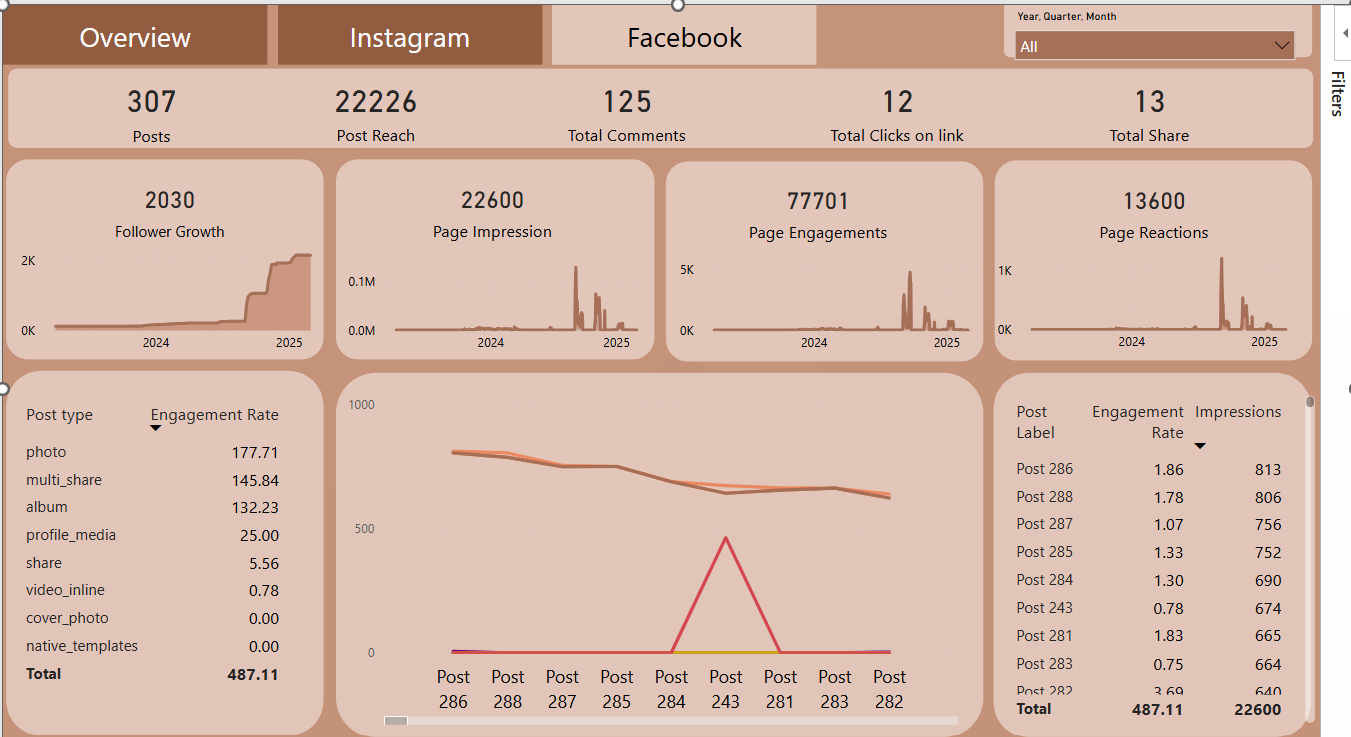

This screenshot's page, from the dashboard's own definition file:
{"tool":"powerbi","page":{"name":"Facebook","canvas":[1280,720],"ordinal":2},"visuals":[{"type":"card","fields":{"Values":["Measures (2).Follower Growth"]},"box":[100,166.2,123.8,65],"z":0},{"type":"areaChart","fields":{"Y":["Sum(Facebook Profile Overview.Page followers)"],"Category":["Facebook Profile Overview.Date.Variation.Date Hierarchy.Year","Facebook Profile Overview.Date.Variation.Date Hierarchy.Quarter","Facebook Profile Overview.Date.Variation.Date Hierarchy.Month","Facebook Profile Overview.Date.Variation.Date Hierarchy.Day"]},"box":[12.5,200,305,146.2],"z":1000},{"type":"textbox","box":[577.5,3.8,150,46.2],"z":2000},{"type":"card","fields":{"Values":["Measures (2).Impression"]},"box":[410,166.2,131.2,65],"z":3000},{"type":"card","fields":{"Values":["Sum(Facebook Profile Overview.Page post engagements)"]},"box":[681.2,167.5,221.2,65],"z":4000},{"type":"areaChart","fields":{"Category":["Facebook Profile Overview.Date.Variation.Date Hierarchy.Year","Facebook Profile Overview.Date.Variation.Date Hierarchy.Quarter","Facebook Profile Overview.Date.Variation.Date Hierarchy.Month","Facebook Profile Overview.Date.Variation.Date Hierarchy.Day"],"Y":["Sum(Facebook Profile Overview.Page post engagements)"]},"box":[652.5,231.2,303.8,115],"z":5000},{"type":"card","fields":{"Values":["Measures (2).Posts"]},"box":[77.5,60,133.8,83.8],"z":6000},{"type":"card","fields":{"Values":["Measures (2).Total Clicks on link"]},"box":[781.2,60,175,83.8],"z":7000},{"type":"card","fields":{"Values":["Measures (2).Total Comments"]},"box":[518.8,60,176.2,83.8],"z":8000},{"type":"card","fields":{"Values":["Measures (2).Total Share"]},"box":[1045,60,138.8,83.8],"z":9000},{"type":"lineChart","fields":{"Y":["Sum(Facebook Post Engagement.Post impressions)","Sum(Facebook Post Engagement.Post link clicks)","Sum(Facebook Post Engagement.Post organic reach)","Sum(Facebook Post Engagement.Post photo views)","Sum(Facebook Post Engagement.Post reach)","Sum(Facebook Post Engagement.Shares on posts)","Sum(Facebook Post Engagement.Shares on shares)","Sum(Facebook Post Engagement.Video views)"],"Category":["Facebook Post Engagement.Post Label"]},"box":[328.8,375,608.8,330],"z":10000},{"type":"areaChart","fields":{"Category":["Facebook Profile Overview.Date.Variation.Date Hierarchy.Year","Facebook Profile Overview.Date.Variation.Date Hierarchy.Quarter","Facebook Profile Overview.Date.Variation.Date Hierarchy.Month","Facebook Profile Overview.Date.Variation.Date Hierarchy.Day"],"Y":["Sum(Facebook Profile Overview.Total impressions)"]},"box":[330,231.2,303.8,115],"z":11000},{"type":"slicer","fields":{"Values":["Facebook Profile Overview.Year","Facebook Profile Overview.Quarter","Facebook Profile Overview.Month"]},"box":[972.5,0,293.8,60],"z":12000},{"type":"textbox","box":[328.8,0,146.2,47.5],"z":13000},{"type":"textbox","box":[77.5,1.2,146.2,47.5],"z":14000},{"type":"pivotTable","fields":{"Rows":["Facebook Post Engagement.Post type"],"Values":["Sum(Facebook Post Engagement.Engagement Rate)"]},"box":[12.5,377.5,305,327.5],"z":15000},{"type":"pivotTable","fields":{"Rows":["Facebook Post Engagement.Post Label"],"Values":["Sum(Facebook Post Engagement.Engagement Rate)","Sum(Facebook Post Engagement.Post impressions)"]},"box":[975,375,305,327.5],"z":15001},{"type":"areaChart","fields":{"Category":["Facebook Profile Overview.Date.Variation.Date Hierarchy.Year","Facebook Profile Overview.Date.Variation.Date Hierarchy.Quarter","Facebook Profile Overview.Date.Variation.Date Hierarchy.Month","Facebook Profile Overview.Date.Variation.Date Hierarchy.Day"],"Y":["Sum(Facebook Profile Overview.Total page reactions)"]},"box":[961.2,216.2,303.8,130],"z":15002},{"type":"card","fields":{"Values":["Sum(Facebook Profile Overview.Total page reactions)"]},"box":[1007.5,167.5,221.2,65],"z":15003},{"type":"card","fields":{"Values":["Facebook Measures (2).Post Reach"]},"box":[293.8,60,138.8,83.8],"z":15004},{"type":"pageNavigator","box":[0,0,791.2,58.8],"z":15005}]}

Visuals, with their boxes on the page's 1280x720 design canvas (x1, y1, x2, y2). These are canvas units, not pixel positions in the 1351x737 screenshot, which may show the page scaled, cropped or inside an application window:
card - Measures (2).Follower Growth: 100:166:224:231
areaChart - Sum(Facebook Profile Overview.Page followers) x Facebook Profile Overview.Date.Variation.Date Hierarchy.Year: 12:200:318:346
textbox: 578:4:728:50
card - Measures (2).Impression: 410:166:541:231
card - Sum(Facebook Profile Overview.Page post engagements): 681:168:902:232
areaChart - Facebook Profile Overview.Date.Variation.Date Hierarchy.Year x Facebook Profile Overview.Date.Variation.Date Hierarchy.Quarter: 652:231:956:346
card - Measures (2).Posts: 78:60:211:144
card - Measures (2).Total Clicks on link: 781:60:956:144
card - Measures (2).Total Comments: 519:60:695:144
card - Measures (2).Total Share: 1045:60:1184:144
lineChart - Sum(Facebook Post Engagement.Post impressions) x Sum(Facebook Post Engagement.Post link clicks): 329:375:938:705
areaChart - Facebook Profile Overview.Date.Variation.Date Hierarchy.Year x Facebook Profile Overview.Date.Variation.Date Hierarchy.Quarter: 330:231:634:346
slicer - Facebook Profile Overview.Year x Facebook Profile Overview.Quarter: 972:0:1266:60
textbox: 329:0:475:48
textbox: 78:1:224:49
pivotTable - Facebook Post Engagement.Post type x Sum(Facebook Post Engagement.Engagement Rate): 12:378:318:705
pivotTable - Facebook Post Engagement.Post Label x Sum(Facebook Post Engagement.Engagement Rate): 975:375:1280:702
areaChart - Facebook Profile Overview.Date.Variation.Date Hierarchy.Year x Facebook Profile Overview.Date.Variation.Date Hierarchy.Quarter: 961:216:1265:346
card - Sum(Facebook Profile Overview.Total page reactions): 1008:168:1229:232
card - Facebook Measures (2).Post Reach: 294:60:433:144
pageNavigator: 0:0:791:59
